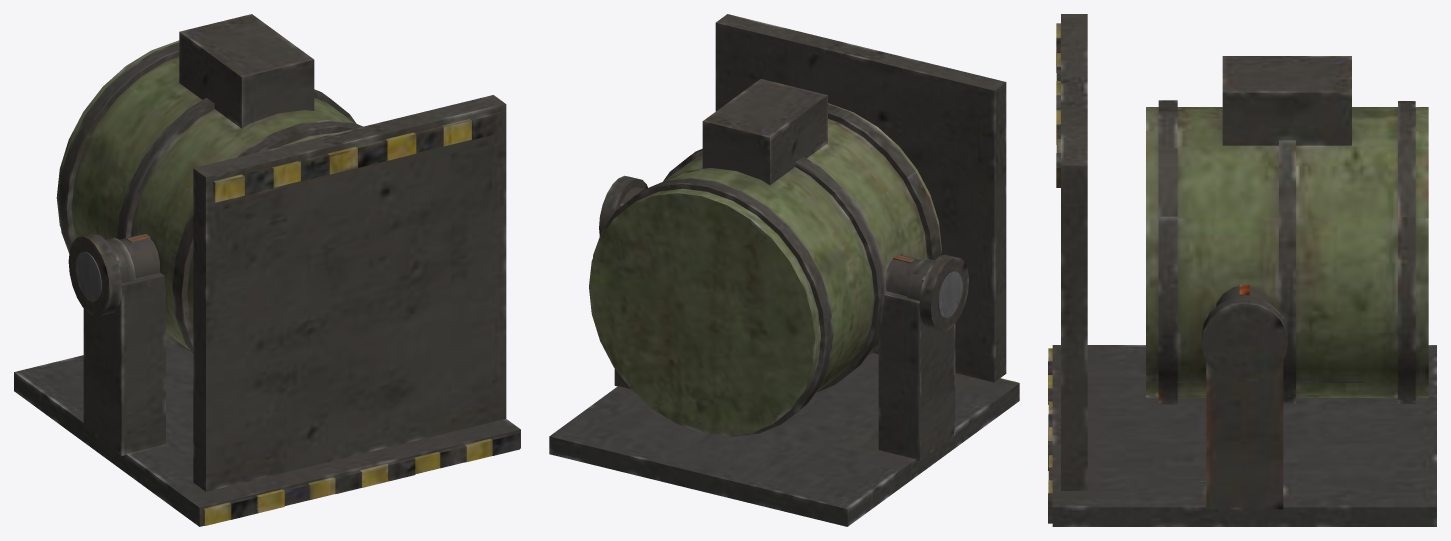
File: feMechPiston.glb
The picture shows the model from 3 angles, left to right: view 1: azimuth 30°, elevation 25°; view 2: azimuth 150°, elevation 25°; view 3: azimuth 270°, elevation 25°; orthographic projection. The views are drawn at different scales.
Visible parts, largest first — view 1: feMechPiston_Base, FeSpin_DriveShaft; view 2: feMechPiston_Base, FeSpin_DriveShaft; view 3: feMechPiston_Base, FeSpin_DriveShaft.
Boxes of the visible parts, x1=… form: feMechPiston_Base: x1=14, y1=14, x2=520, y2=526; FeSpin_DriveShaft: x1=68, y1=233, x2=150, y2=316; feMechPiston_Base: x1=549, y1=14, x2=1019, y2=526; FeSpin_DriveShaft: x1=599, y1=175, x2=968, y2=331; feMechPiston_Base: x1=1048, y1=14, x2=1436, y2=526; FeSpin_DriveShaft: x1=1201, y1=284, x2=1288, y2=381.
Bounding box in the file's own units: 1 × 0.9624 × 0.9121.
1 material, 1 textured.
